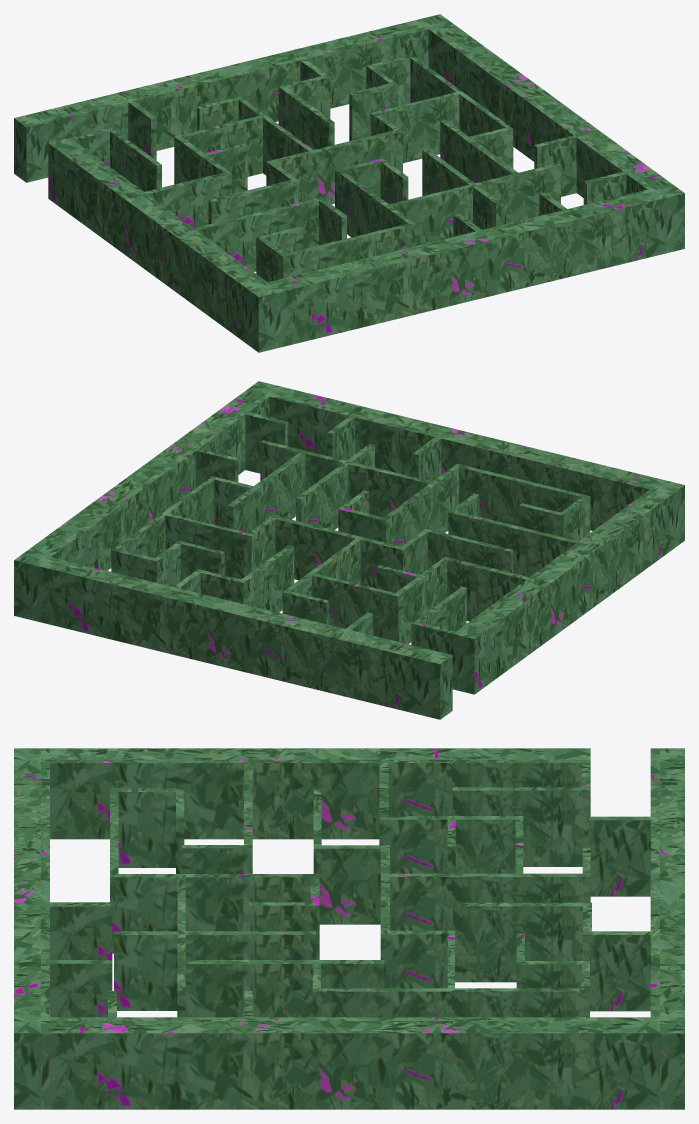
The model's file is Maze2.fbx.
3 renders of one model, top to bottom at view 1: azimuth 30°, elevation 25°; view 2: azimuth 150°, elevation 25°; view 3: azimuth 270°, elevation 25°, orthographic. The views are drawn at different scales.
Parts seen in each view (by area): view 1: Maze2; view 2: Maze2; view 3: Maze2.
Boxes of the visible parts, x1,y1,x2,y2 form: Maze2: (14, 14, 684, 352); Maze2: (14, 381, 684, 719); Maze2: (14, 748, 684, 1109).
Size of the model in its own units: 109 by 13.57 by 108.
